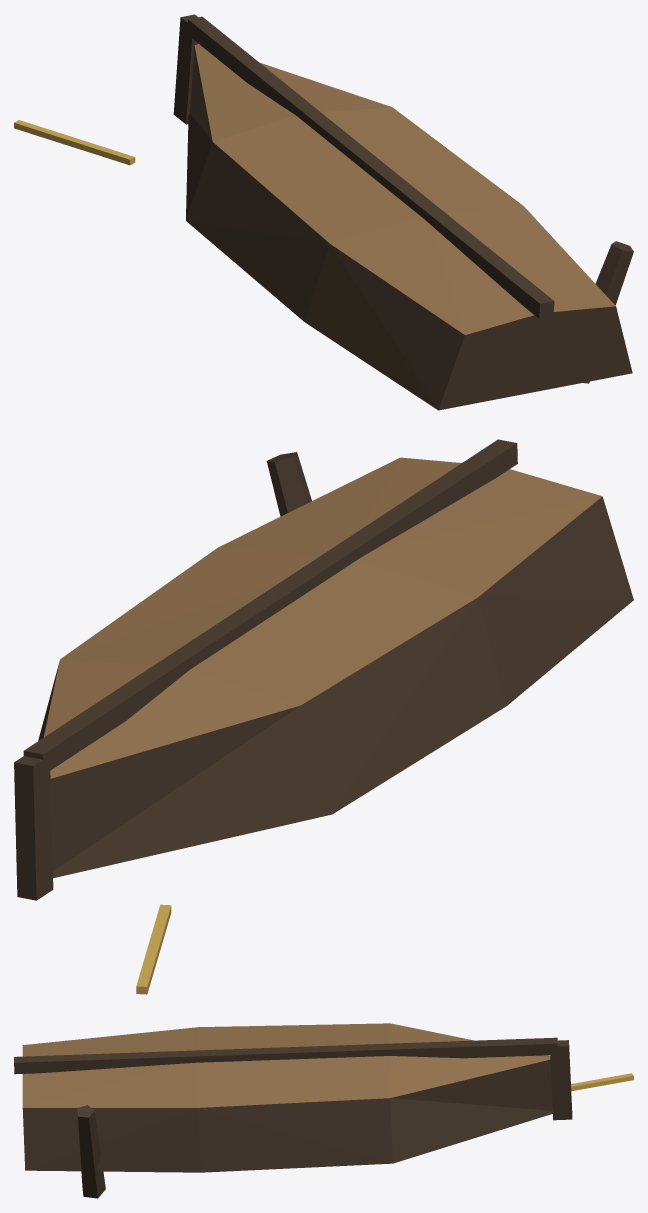
File: rowboat_flipped.glb
3 views of the same model, one above another, from view 1: azimuth 30°, elevation 25°; view 2: azimuth 150°, elevation 25°; view 3: azimuth 270°, elevation 25° (orthographic). The views are drawn at different scales.
Parts seen in each view (by area): view 1: rowboat_flipped; view 2: rowboat_flipped; view 3: rowboat_flipped.
Part boxes in pixels (x1,y1,x2,y2): rowboat_flipped: (14,14,633,410); rowboat_flipped: (14,439,633,994); rowboat_flipped: (14,1023,633,1198).
Size of what is drawn, in the model's own units: 1.46 by 0.8581 by 3.87.
Materials: 2 (2 with a texture image).
